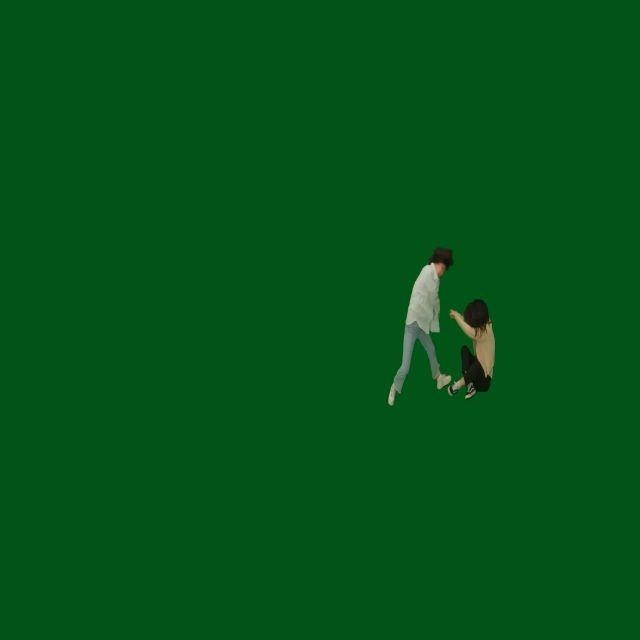fight: (384, 240, 496, 417)
